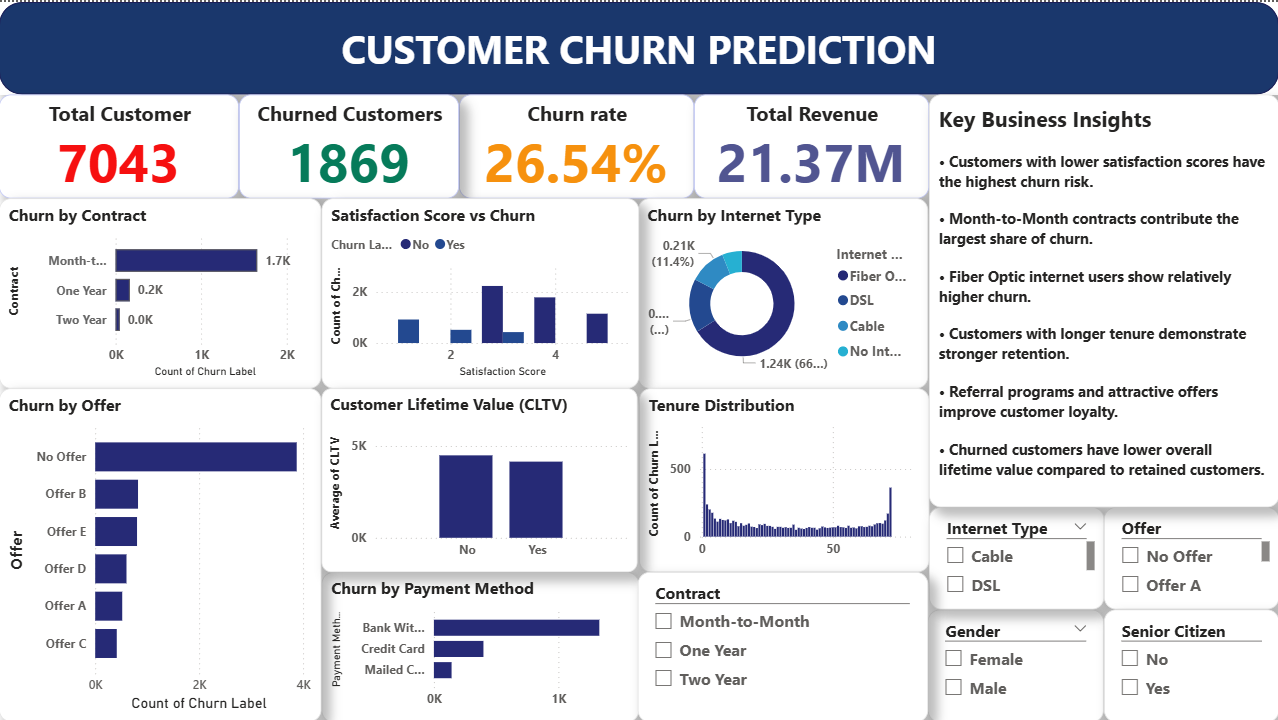

The page's visual inventory and layout, read from the dashboard file:
{"tool":"powerbi","page":{"name":"Page 1","canvas":[1280,720],"ordinal":0},"visuals":[{"type":"shape","box":[0,0,1280,92.5],"z":0},{"type":"card","title":"Total Customer","fields":{"Values":["CountNonNull(customer_churn_cleaned.Gender)"]},"box":[0,92.5,240,103.8],"z":1000},{"type":"card","title":"Churn rate","fields":{"Values":["customer_churn_cleaned.Churn Rate %"]},"box":[460,92.5,235,103.8],"z":2000},{"type":"card","title":"Churned Customers","fields":{"Values":["CountNonNull(customer_churn_cleaned.Gender)"]},"box":[240,92.5,220,103.8],"z":3000},{"type":"card","title":"Total Revenue","fields":{"Values":["Sum(customer_churn_cleaned.Total Revenue)"]},"box":[695,92.5,235,103.8],"z":4000},{"type":"clusteredBarChart","title":" Churn by Contract","fields":{"Category":["customer_churn_cleaned.Contract"],"Y":["CountNonNull(customer_churn_cleaned.Churn Label)"]},"box":[0,196.2,322.5,190],"z":5000},{"type":"donutChart","title":" Churn by Internet Type","fields":{"Category":["customer_churn_cleaned.Internet Type"],"Y":["CountNonNull(customer_churn_cleaned.Churn Label)"]},"box":[638.8,196.2,290,190],"z":6000},{"type":"clusteredColumnChart","title":"Satisfaction Score vs Churn","fields":{"Category":["customer_churn_cleaned.Satisfaction Score"],"Y":["CountNonNull(customer_churn_cleaned.Churn Label)"],"Series":["customer_churn_cleaned.Churn Label"]},"box":[322.5,196.2,317.5,190],"z":7000},{"type":"barChart","title":" Churn by Payment Method","fields":{"Category":["customer_churn_cleaned.Payment Method"],"Y":["CountNonNull(customer_churn_cleaned.Churn Label)"]},"box":[322.5,570,317.5,150],"z":8000},{"type":"barChart","title":"Churn by Offer","fields":{"Y":["CountNonNull(customer_churn_cleaned.Churn Label)"],"Category":["customer_churn_cleaned.Offer"]},"box":[0,386.2,322.5,333.8],"z":9000},{"type":"clusteredColumnChart","title":" Tenure Distribution","fields":{"Category":["customer_churn_cleaned.Tenure in Months"],"Y":["CountNonNull(customer_churn_cleaned.Churn Label)"]},"box":[640,386.2,290,183.8],"z":9001},{"type":"clusteredColumnChart","title":"Customer Lifetime Value (CLTV)","fields":{"Category":["customer_churn_cleaned.Churn Label"],"Y":["Avg(customer_churn_cleaned.CLTV)"]},"box":[322.5,386.2,316.2,183.8],"z":9002},{"type":"slicer","fields":{"Values":["customer_churn_cleaned.Gender"]},"box":[928.8,607.5,176.2,112.5],"z":9004},{"type":"slicer","fields":{"Values":["customer_churn_cleaned.Internet Type"]},"box":[930,505,175,102.5],"z":9008},{"type":"slicer","fields":{"Values":["customer_churn_cleaned.Contract"]},"box":[638.8,570,290,150],"z":9009},{"type":"slicer","fields":{"Values":["customer_churn_cleaned.Offer"]},"box":[1105,505,175,102.5],"z":9010},{"type":"slicer","fields":{"Values":["customer_churn_cleaned.Senior Citizen"]},"box":[1105,607.5,175,112.5],"z":9011},{"type":"textbox","box":[930,92.5,350,412.5],"z":9012}]}

Visuals, with their boxes in screenshot pixels (x1, y1, x2, y2), scaled from the page's 1280x720 canvas onto the 1278x720 screenshot:
shape: [0, 0, 1277, 92]
"Total Customer" card: [0, 92, 240, 196]
"Churn rate" card: [459, 92, 694, 196]
"Churned Customers" card: [240, 92, 459, 196]
"Total Revenue" card: [694, 92, 929, 196]
" Churn by Contract" clusteredBarChart: [0, 196, 322, 386]
" Churn by Internet Type" donutChart: [638, 196, 927, 386]
"Satisfaction Score vs Churn" clusteredColumnChart: [322, 196, 639, 386]
" Churn by Payment Method" barChart: [322, 570, 639, 719]
"Churn by Offer" barChart: [0, 386, 322, 719]
" Tenure Distribution" clusteredColumnChart: [639, 386, 929, 570]
"Customer Lifetime Value (CLTV)" clusteredColumnChart: [322, 386, 638, 570]
slicer - customer_churn_cleaned.Gender: [927, 608, 1103, 719]
slicer - customer_churn_cleaned.Internet Type: [929, 505, 1103, 608]
slicer - customer_churn_cleaned.Contract: [638, 570, 927, 719]
slicer - customer_churn_cleaned.Offer: [1103, 505, 1277, 608]
slicer - customer_churn_cleaned.Senior Citizen: [1103, 608, 1277, 719]
textbox: [929, 92, 1277, 505]
